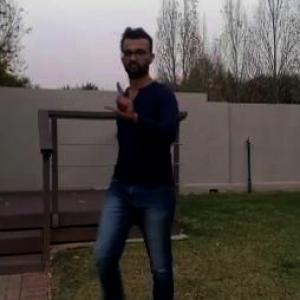land_hand: (104, 78, 140, 125)
